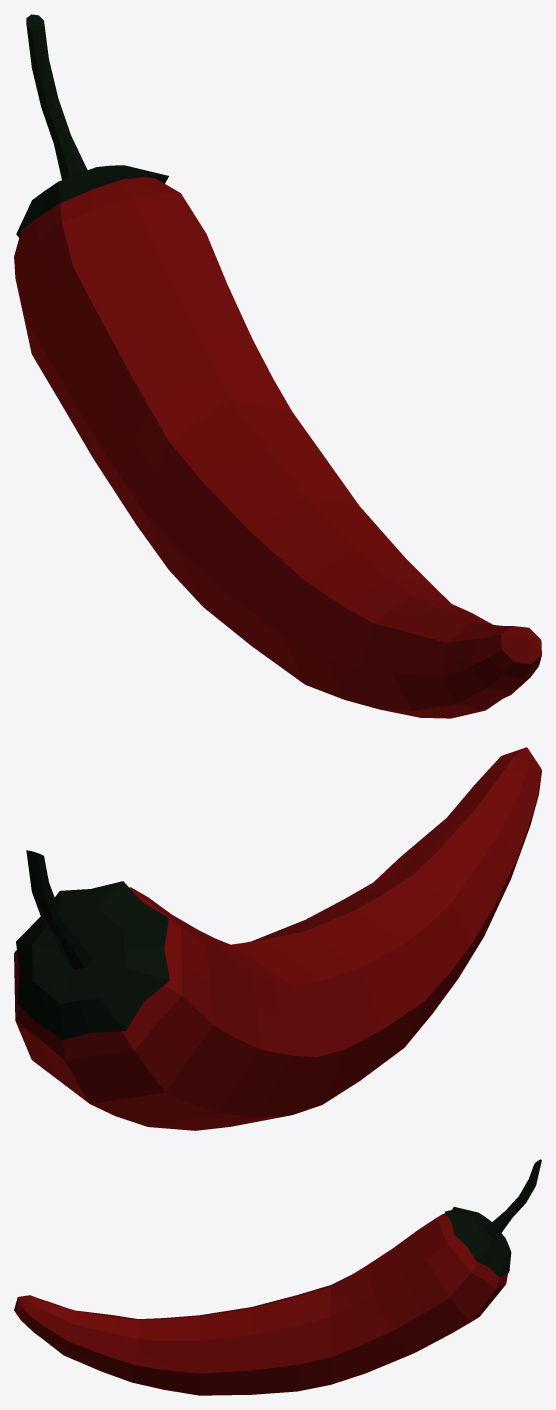
File: pepper.obj
The picture shows the model from 3 angles, top to bottom: view 1: azimuth 30°, elevation 25°; view 2: azimuth 150°, elevation 25°; view 3: azimuth 270°, elevation 25°; orthographic projection. The views are drawn at different scales.
Parts seen in each view (by area): view 1: RedPepper; view 2: RedPepper; view 3: RedPepper.
Boxes of the visible parts, bbox=[...] form: RedPepper: bbox=[14, 14, 541, 718]; RedPepper: bbox=[14, 747, 541, 1130]; RedPepper: bbox=[14, 1159, 541, 1395].
Size of the model in its own units: 0.0257 by 0.0577 by 0.1178.
